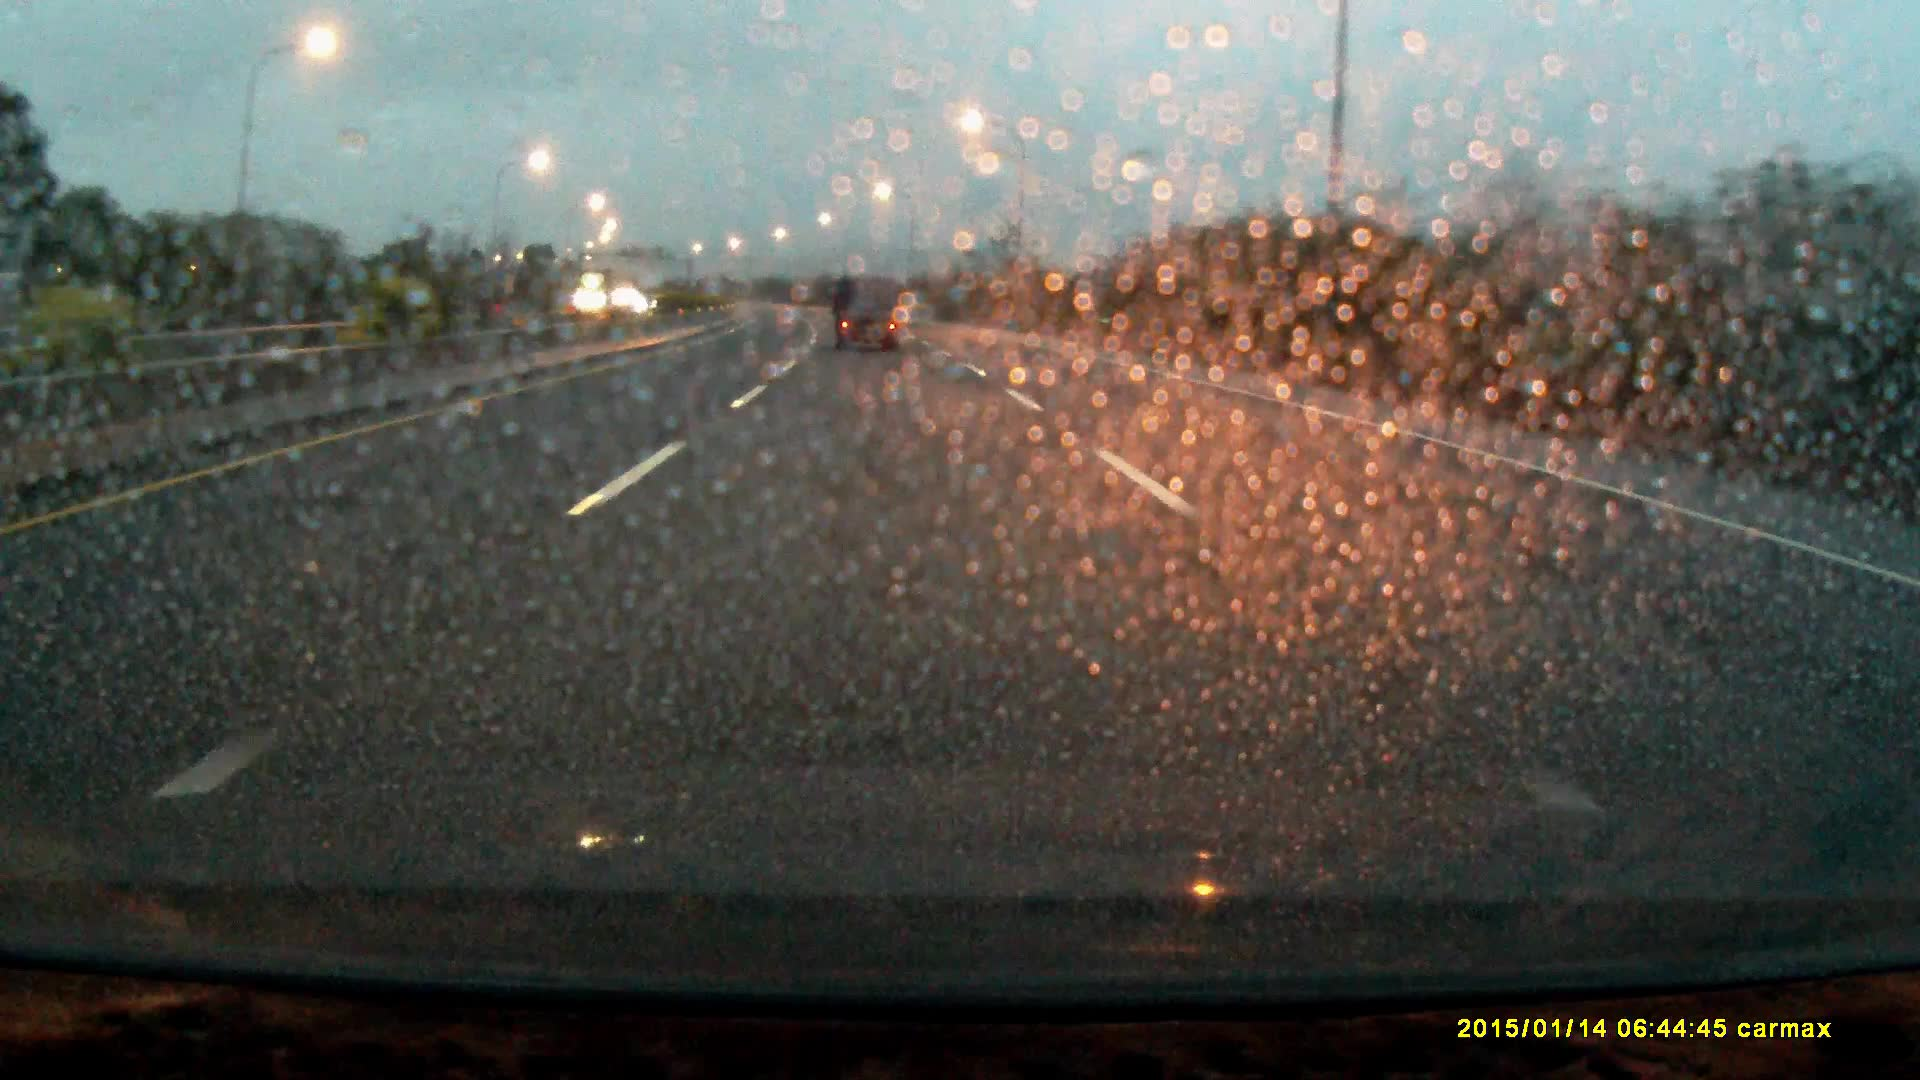vehicle: (832, 276, 902, 355), (571, 270, 636, 319)
